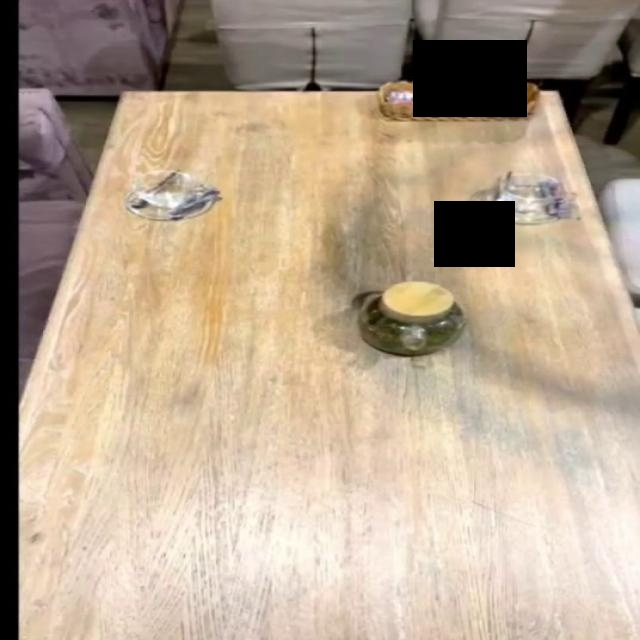tea: (374, 281, 479, 373)
